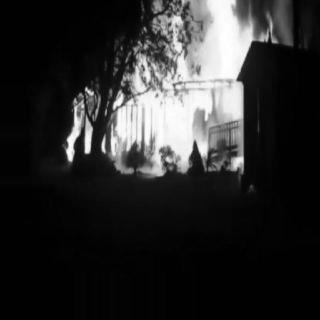Fire: (136, 2, 246, 175), (66, 74, 134, 170)
